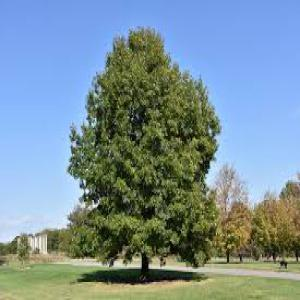Tree: (66, 20, 220, 284)
